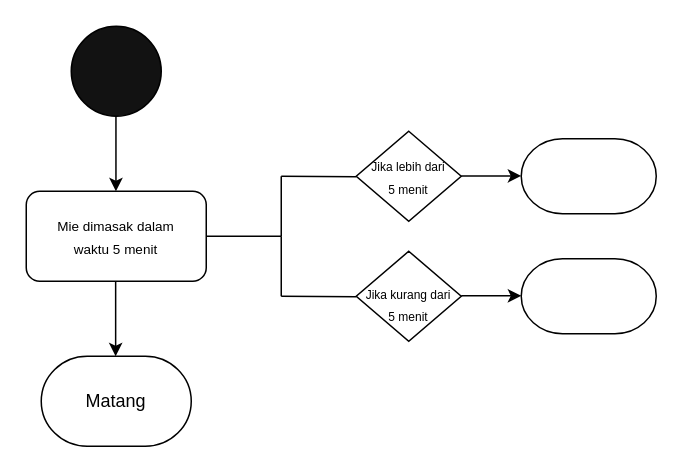
Image size: 683x473. Some labels were removed from this diagram. Each missing label, with the centre of its shape:
"Mie akan kematengan" goes at [588,175].
"Mie tidak matang" goes at [588,295].
